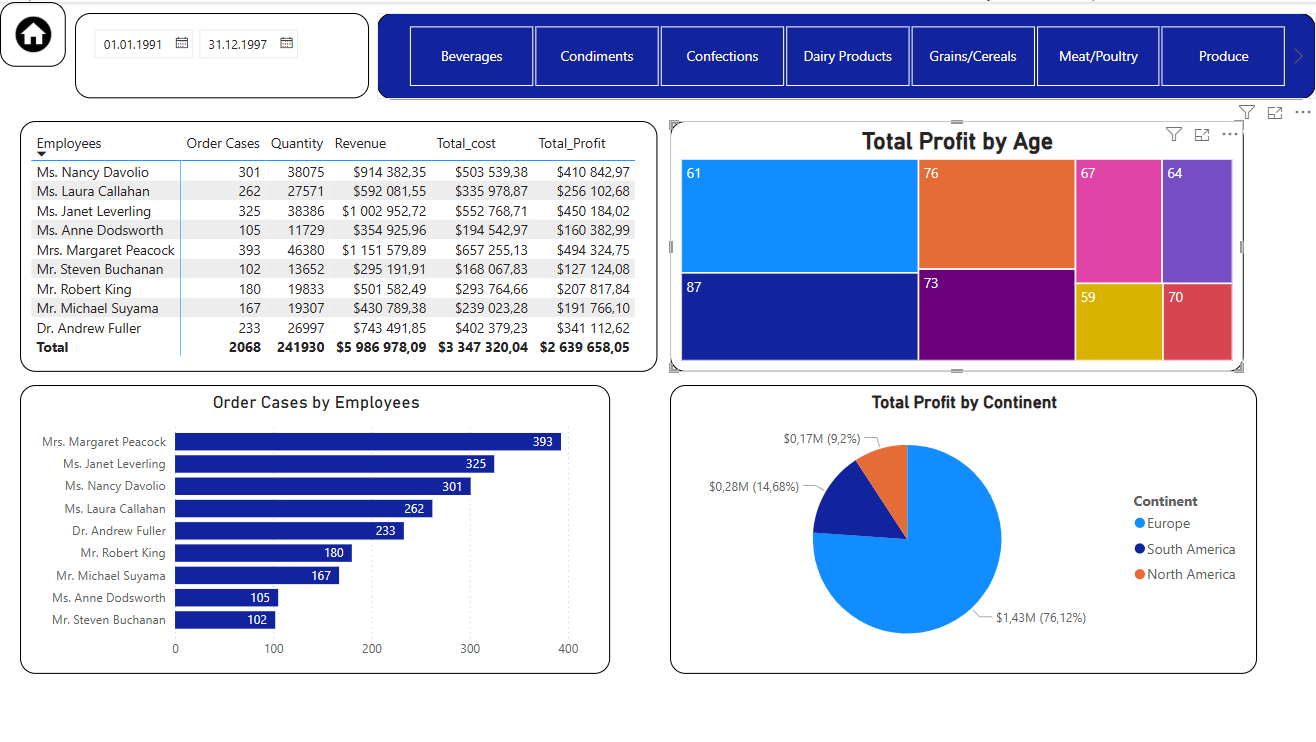

The dashboard page shown, as its layout file describes it:
{"tool":"powerbi","page":{"name":"Employees Overview","canvas":[1280,720],"ordinal":5},"visuals":[{"type":"slicer","fields":{"Values":["Calendar.Date"]},"box":[72.9,10.7,286,82.7],"z":0},{"type":"slicer","fields":{"Values":["categories.category_name"]},"box":[366.7,10.7,913.3,83.6],"z":1000},{"type":"pivotTable","fields":{"Rows":["employees.Names"],"Values":["Nw_orders_total.Order_Cases","Nw_orders_derails_total.Sum_quantity","Nw_orders_derails_total.Revenue","Nw_orders_derails_total.Total_cost","Nw_orders_derails_total.Total_Profit"]},"box":[19.6,115.4,620.4,244.3],"z":2000},{"type":"barChart","title":"Order Cases by Employees","fields":{"Category":["employees.Names"],"Y":["Nw_orders_total.Order_Cases"]},"box":[19.6,372,574,281.4],"z":3000},{"type":"treemap","title":"Total Profit by Age","fields":{"Group":["employees.Age"],"Values":["Nw_orders_derails_total.Total_Profit"]},"box":[651.3,115.4,557.6,244.3],"z":4000},{"type":"pieChart","title":"Total Profit by Continent","fields":{"Category":["Countries or Areas.Continent"],"Y":["Nw_orders_derails_total.Total_Profit"]},"box":[651.3,372,571,281.4],"z":5000},{"type":"image","box":[0,0,64.2,63.2],"z":6000}]}

Visuals, with their boxes in screenshot pixels (x1, y1, x2, y2), scaled from the page's 1280x720 canvas onto the 1316x742 screenshot:
slicer - Calendar.Date: [75, 11, 369, 96]
slicer - categories.category_name: [377, 11, 1315, 97]
pivotTable - employees.Names x Nw_orders_total.Order_Cases: [20, 119, 658, 371]
"Order Cases by Employees" barChart: [20, 383, 610, 673]
"Total Profit by Age" treemap: [670, 119, 1243, 371]
"Total Profit by Continent" pieChart: [670, 383, 1257, 673]
image: [0, 0, 66, 65]
